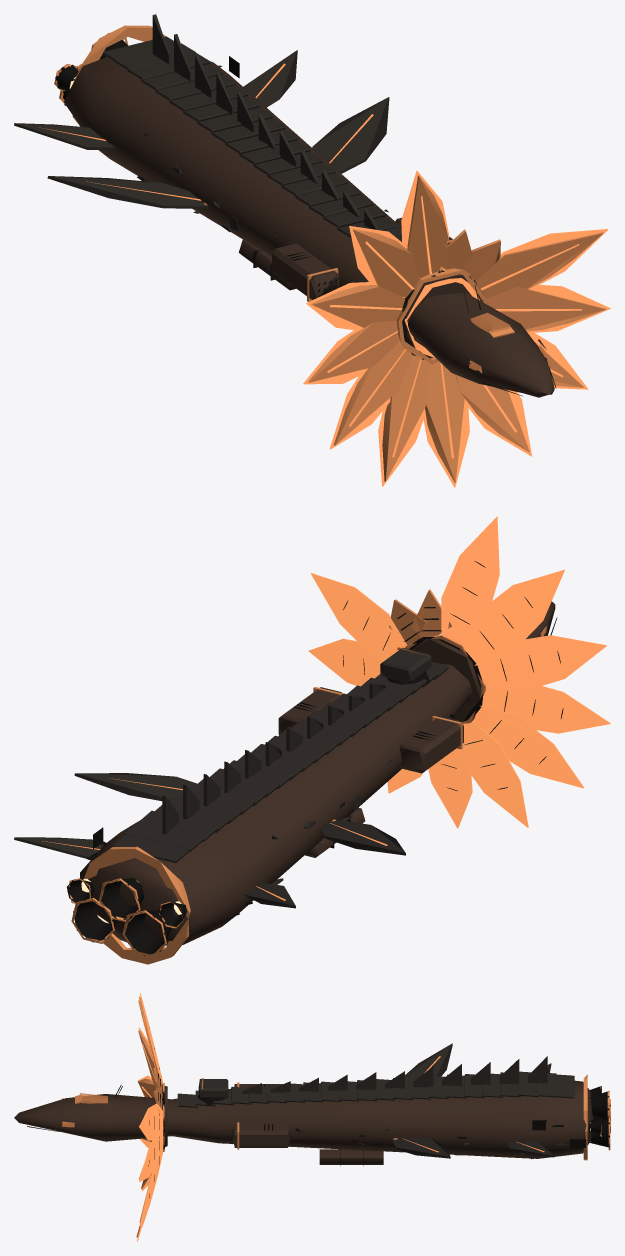
The model's file is kryza-heliotropi-hawk-44-lod1.glb.
The picture shows the model from 3 angles, top to bottom: view 1: azimuth 30°, elevation 25°; view 2: azimuth 150°, elevation 25°; view 3: azimuth 270°, elevation 25°; orthographic projection. The views are drawn at different scales.
Bounding box in the file's own units: 22.24 × 20.46 × 50.
